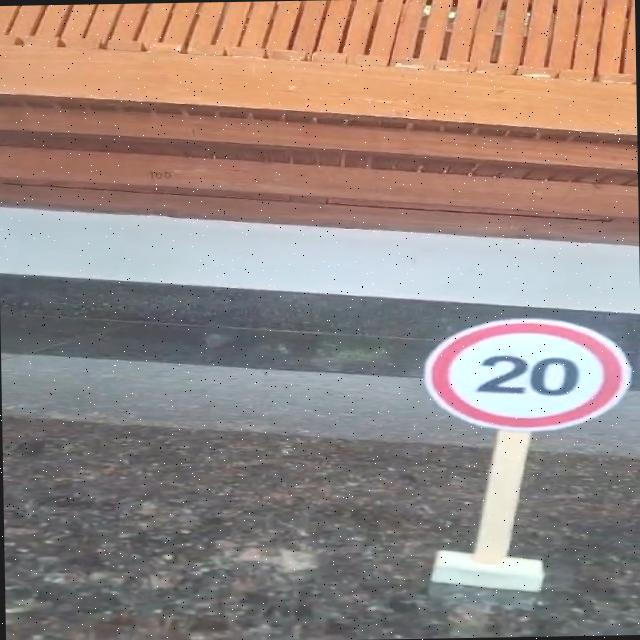Speed20: (414, 309, 640, 436)
